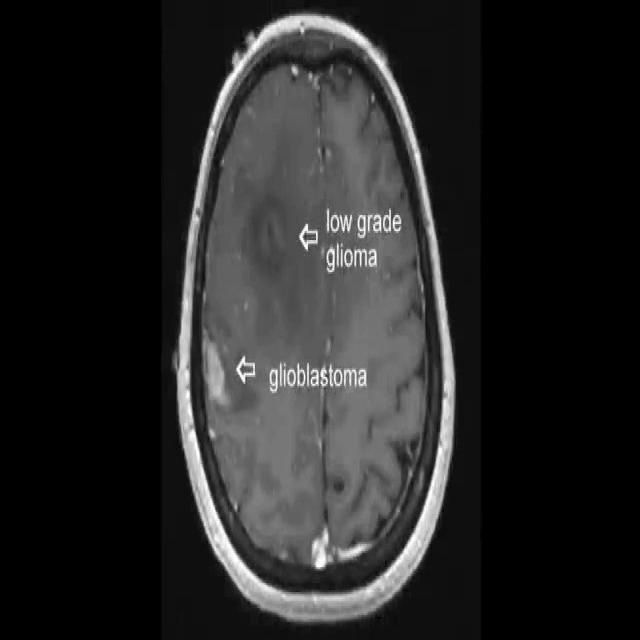tumor: (239, 146, 301, 293)
